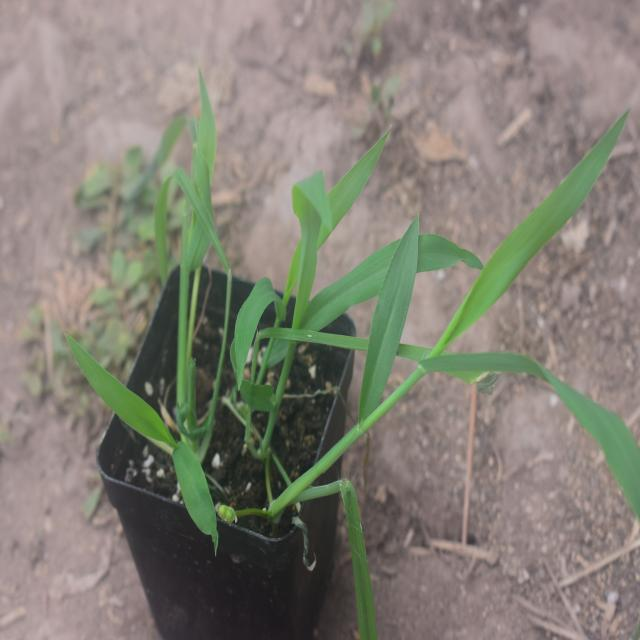crabgrass: (226, 96, 622, 485)
